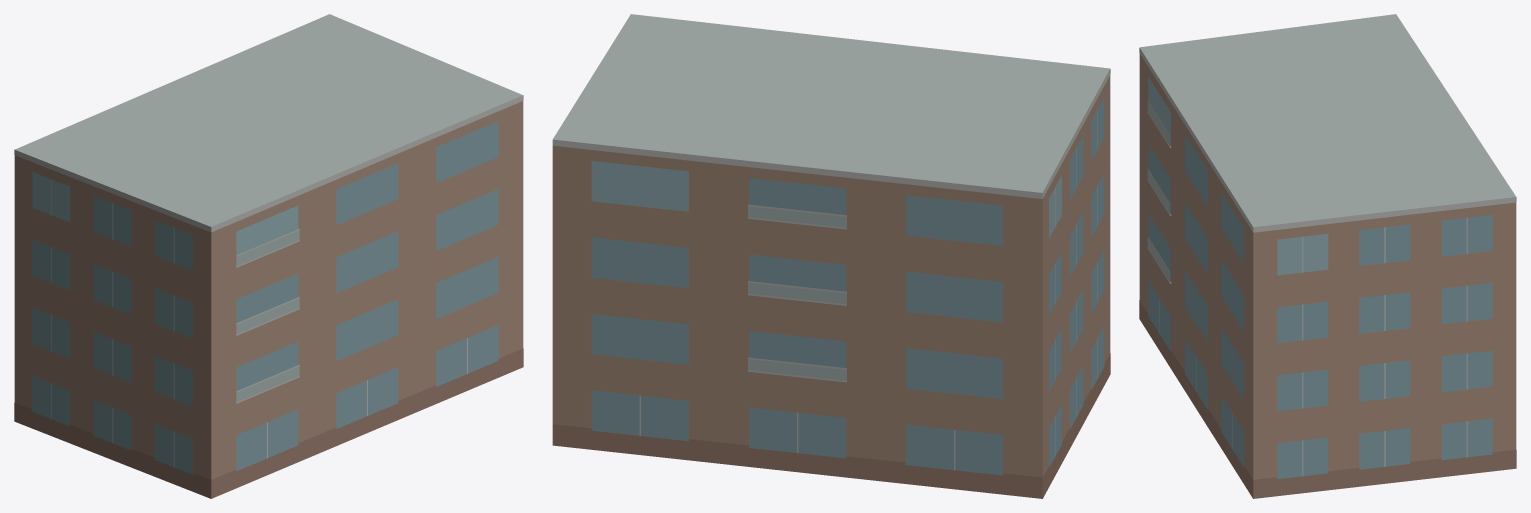
File: survey-upis-32979759.glb
3 views of the same model, side by side, from view 1: azimuth 30°, elevation 25°; view 2: azimuth 150°, elevation 25°; view 3: azimuth 270°, elevation 25° (orthographic). The views are drawn at different scales.
Parts seen in each view (by area): view 1: survey-upis-32979759.tmp; view 2: survey-upis-32979759.tmp; view 3: survey-upis-32979759.tmp.
Boxes of the visible parts, x1,y1,x2,y2 form: survey-upis-32979759.tmp: (14, 14, 523, 498); survey-upis-32979759.tmp: (552, 14, 1110, 498); survey-upis-32979759.tmp: (1139, 14, 1516, 498).
Bounding box in the file's own units: 20.55 × 12.2 × 15.36.
